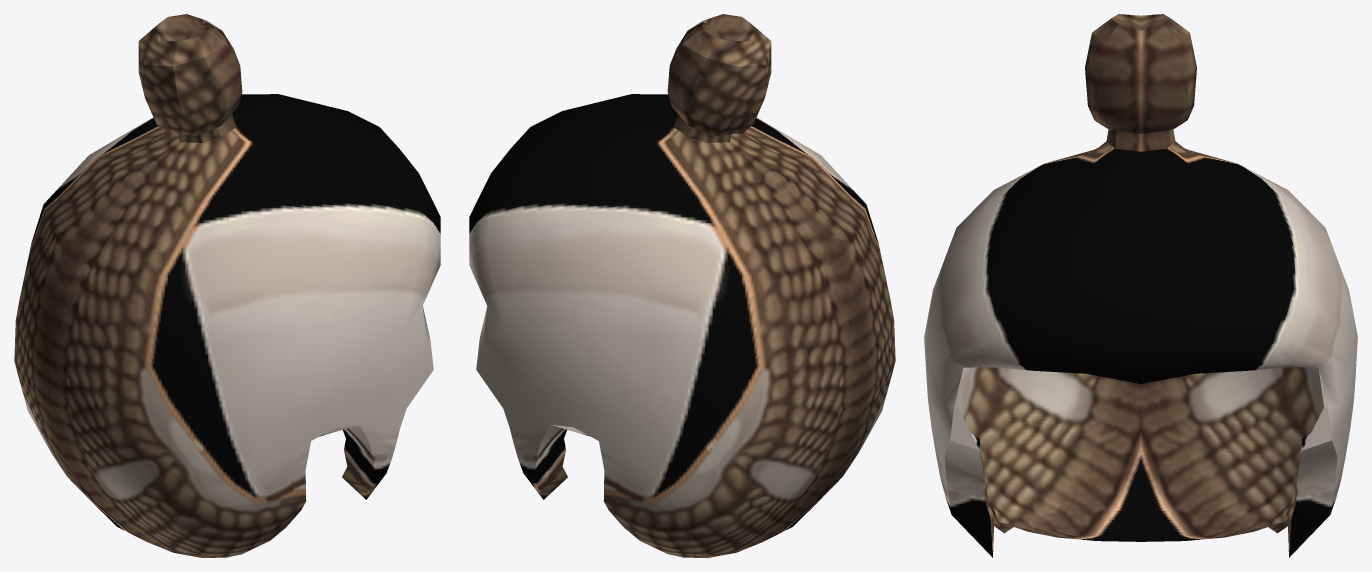
Rendered from hairstyle_021.FBX.
3 views of the same model, side by side, from view 1: azimuth 30°, elevation 25°; view 2: azimuth 150°, elevation 25°; view 3: azimuth 270°, elevation 25° (orthographic). The views are drawn at different scales.
Visible parts, largest first — view 1: hairstyle_021; view 2: hairstyle_021; view 3: hairstyle_021.
Part boxes in pixels (x1,y1,x2,y2): hairstyle_021: (14,14,440,557); hairstyle_021: (469,14,895,557); hairstyle_021: (924,14,1357,557).
Bounding box in the file's own units: 53.15 × 70.52 × 51.49.
